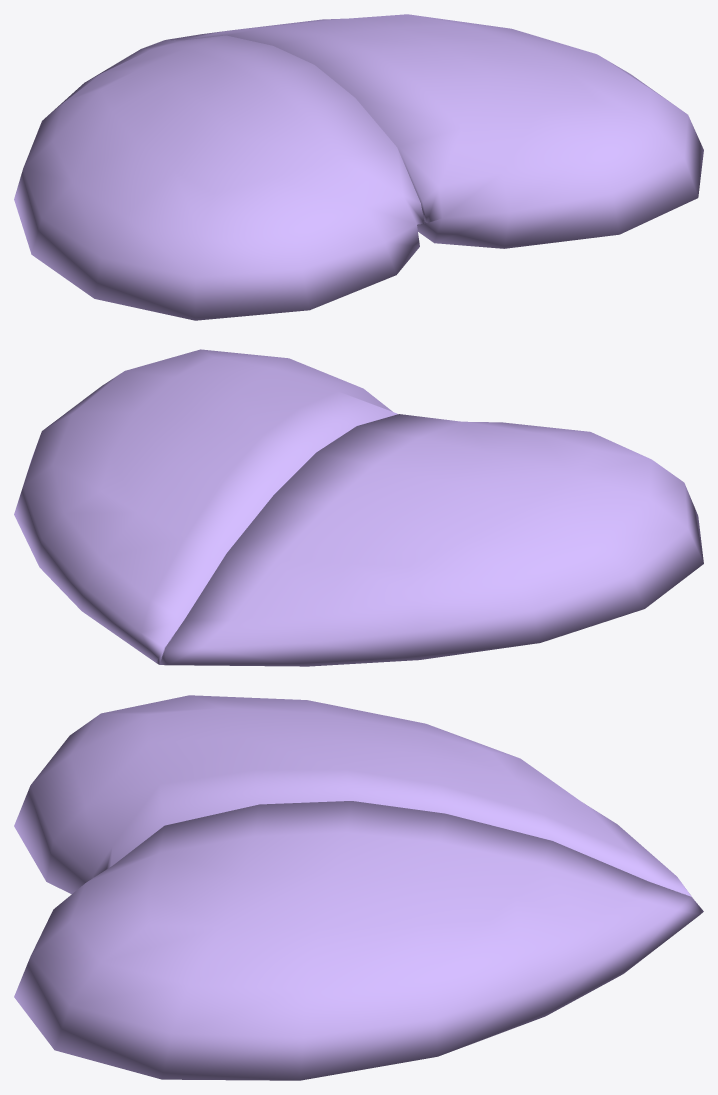
The model's file is LidBeautyPackNLO (1).fbx.
3 views of the same model, one above another, from view 1: azimuth 30°, elevation 25°; view 2: azimuth 150°, elevation 25°; view 3: azimuth 270°, elevation 25° (orthographic). The views are drawn at different scales.
Parts seen in each view (by area): view 1: LidRight, LidLeft; view 2: LidRight, LidLeft; view 3: LidLeft, LidRight.
Part boxes in pixels (bbox=[...]): LidRight: bbox=[14, 35, 424, 320]; LidLeft: bbox=[166, 14, 703, 248]; LidRight: bbox=[159, 414, 703, 666]; LidLeft: bbox=[14, 349, 397, 664]; LidLeft: bbox=[14, 801, 703, 1080]; LidRight: bbox=[14, 695, 700, 907].
Size of the model in its own units: 108 by 16.49 by 92.83.
